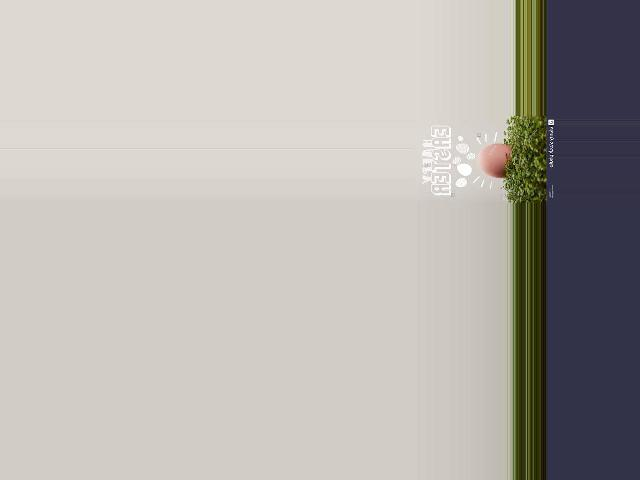egg: (477, 144, 511, 179)
